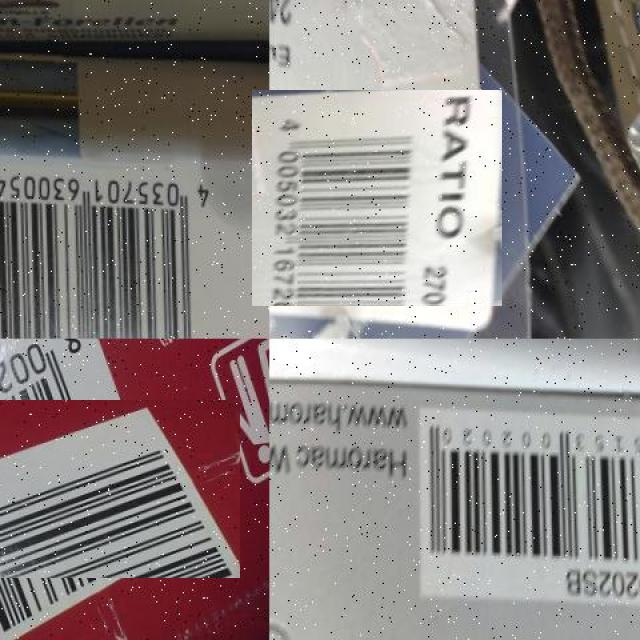Barcode: (261, 82, 494, 315), (0, 369, 210, 609), (415, 410, 640, 613), (0, 158, 224, 338)
